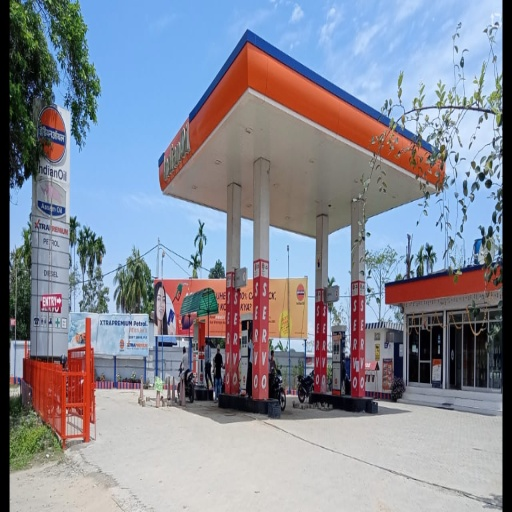roof: (156, 30, 447, 242)
